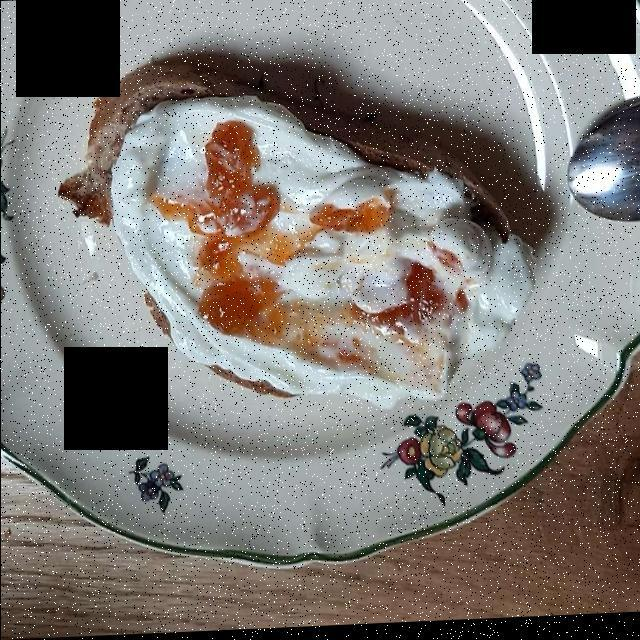bread: (74, 96, 511, 401)
curds: (110, 87, 522, 403)
jam: (158, 111, 452, 338)
